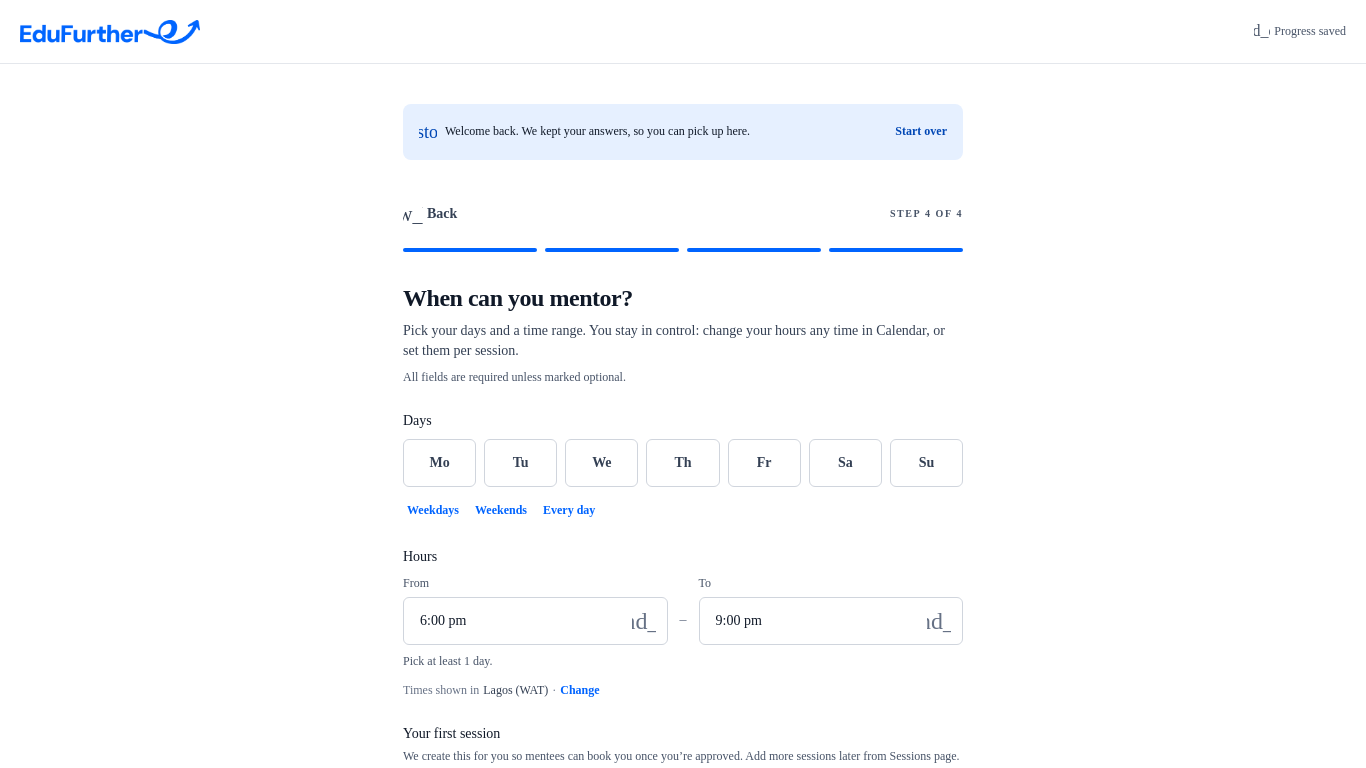
Test: MentorOnboardingScreen › hours: presets pick days, a moved start keeps the range, and the summary follows
Click the button "Weekdays": (433,511) [403,495,463,527]
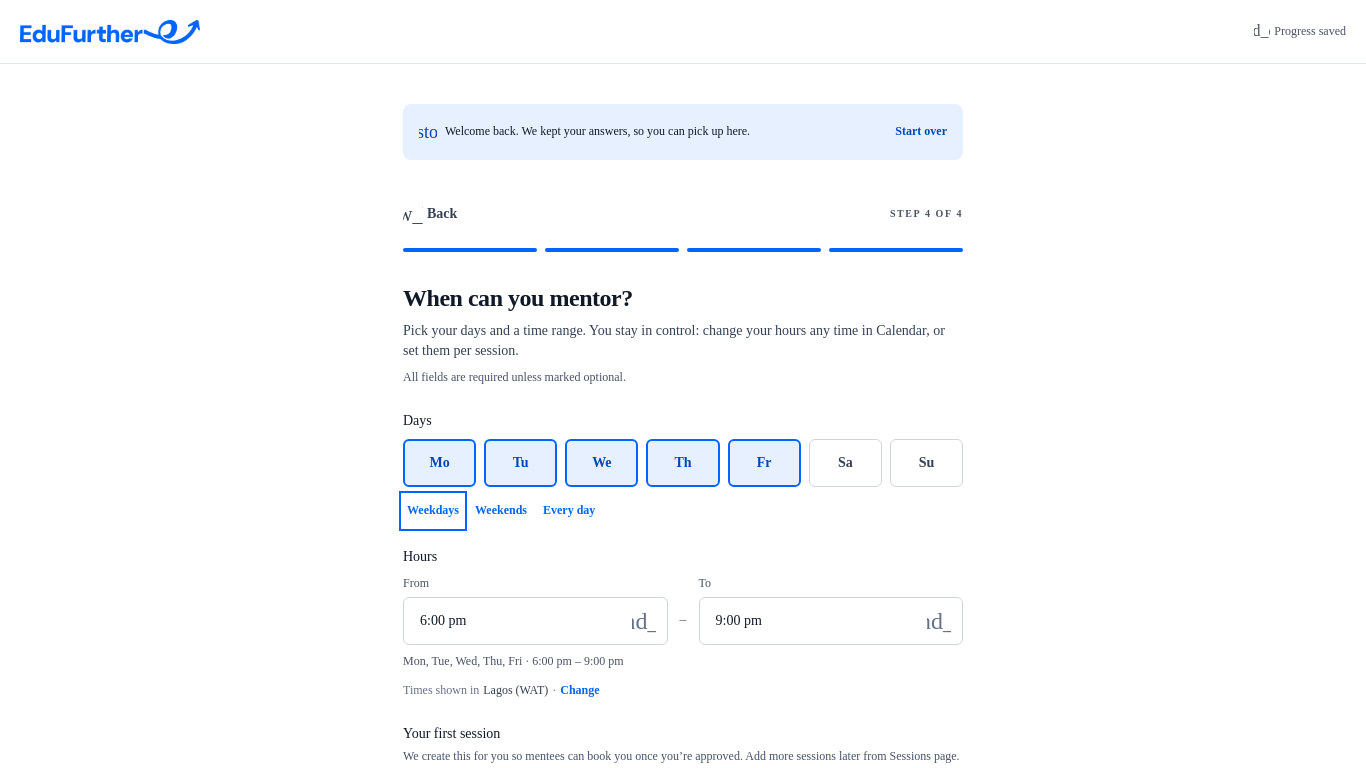
Now the button with aria-label "Monday" is pressed, box [403,439,476,487]
Click the dropdown named "From": (443,620) [403,597,668,645]
(page scrolled)
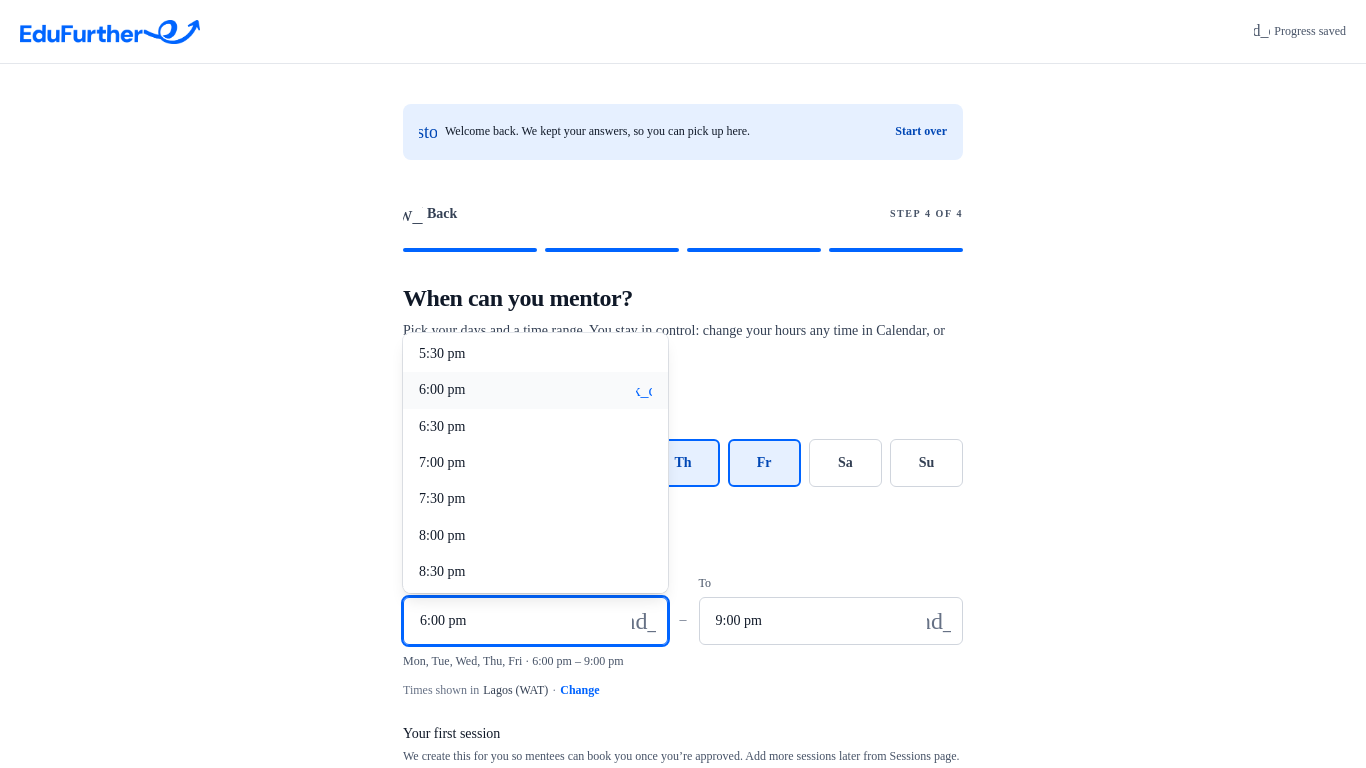
Click the option "7:00 pm": (442,462) [419,455,465,470]
(page scrolled)
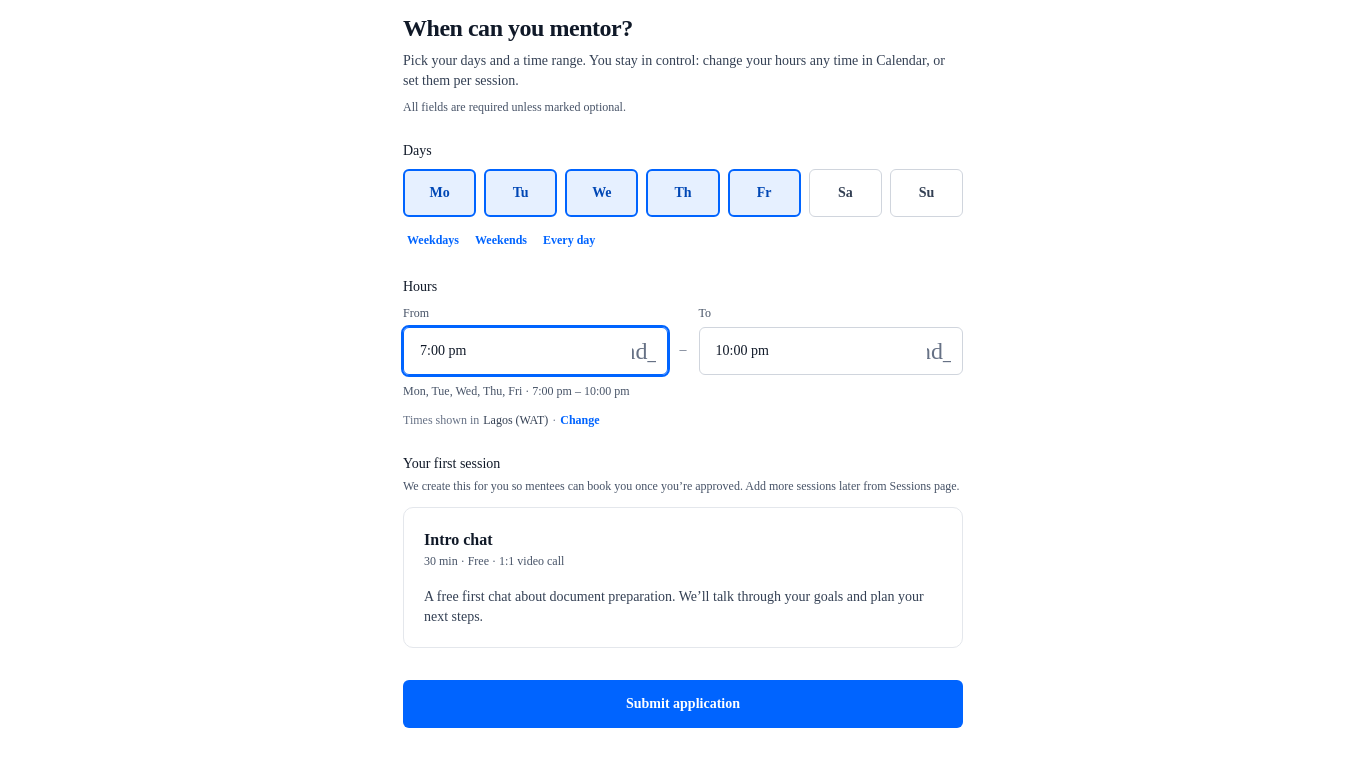
Expected: the dropdown named "To" holds "1320", [698,327,963,375]
Now the text "Mon, Tue, Wed, Thu, Fri · 7:00 pm – 10:00 pm" is shown, box [403,384,630,398]
